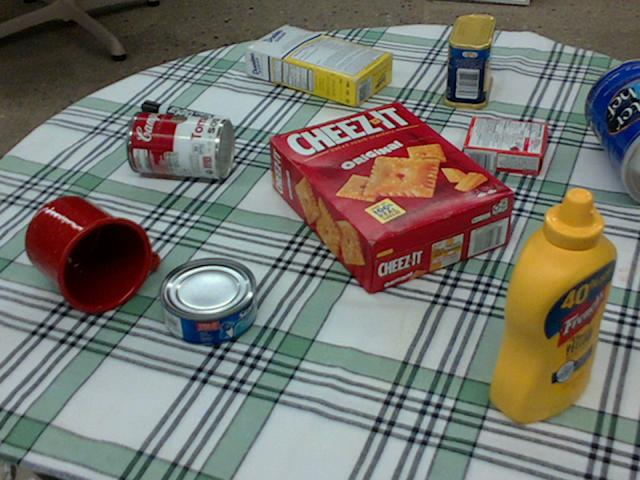cracker_box: (271, 100, 514, 291)
gelatin_box: (461, 117, 545, 172)
large_marker: (140, 100, 228, 131)
master_chef_can: (581, 60, 639, 200)
mug: (24, 196, 156, 312)
mustard_bottle: (491, 186, 617, 420)
potted_meat_can: (442, 13, 494, 108)
sugar_box: (245, 25, 394, 105)
tomato_soup_can: (126, 110, 234, 177)
tuna_fish_can: (156, 257, 256, 345)
